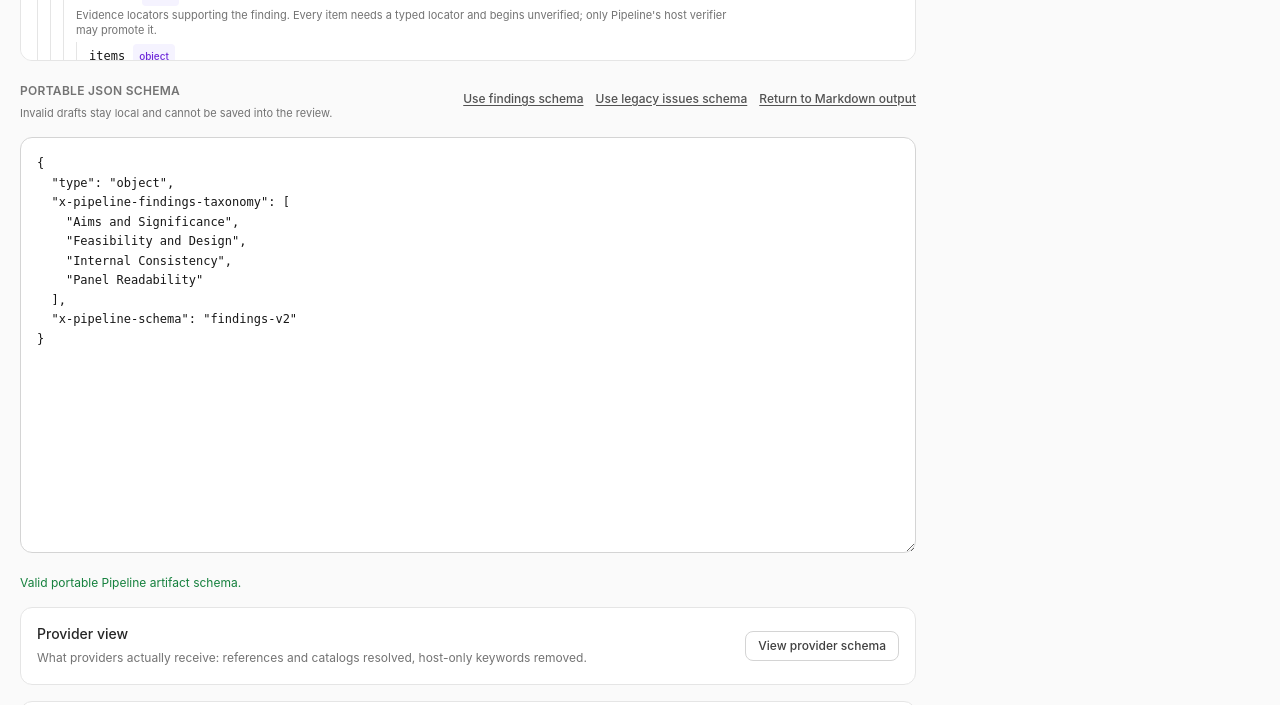
SchemaEditorPanel › keeps the editor and the schema when the text is cleared
(page scrolled)
Clear the text box named "Output JSON schema for Synthesis" at (468, 345), box left=20, top=137, right=916, bottom=553
(page scrolled)
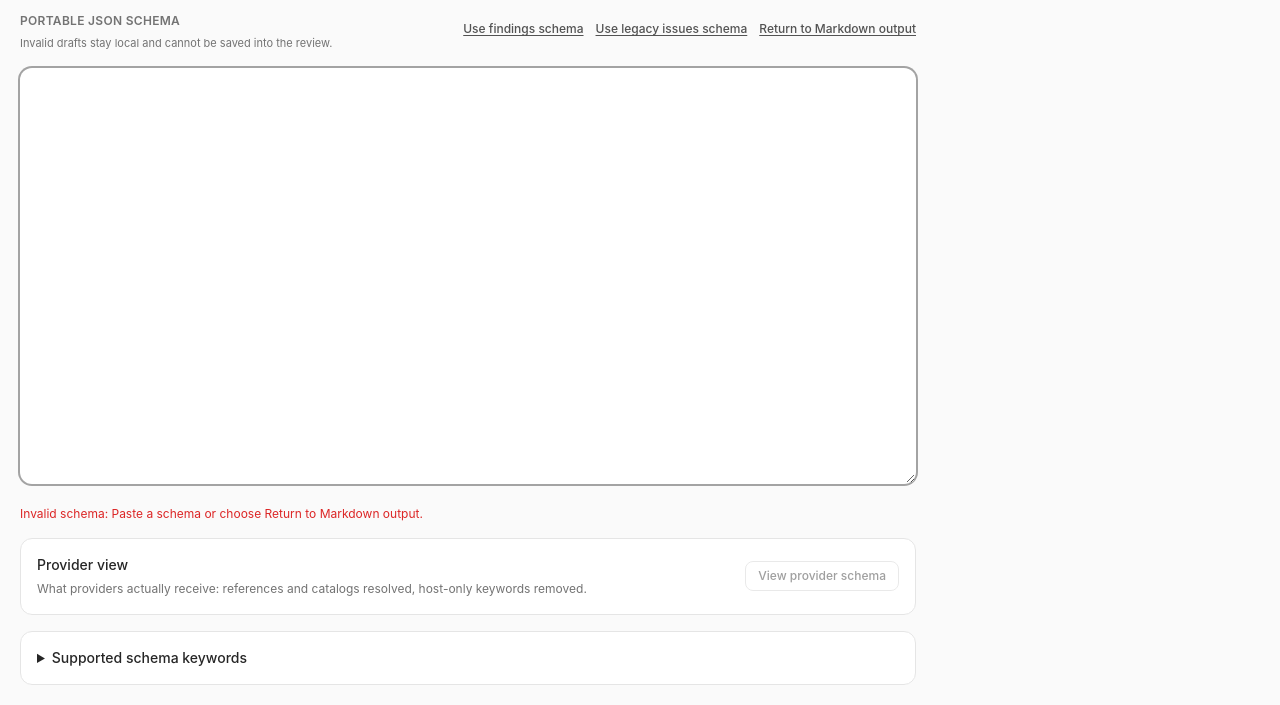
expect the message shows "Paste a schema or choose Return to Markdown output.": met, box left=112, top=506, right=423, bottom=520
